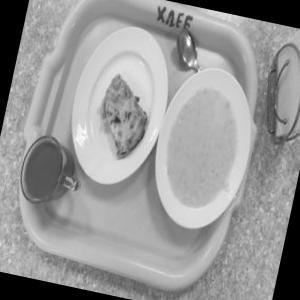cheese_sandwich: (86, 62, 162, 162)
coffee: (13, 126, 94, 214)
porridge: (148, 76, 260, 222)
